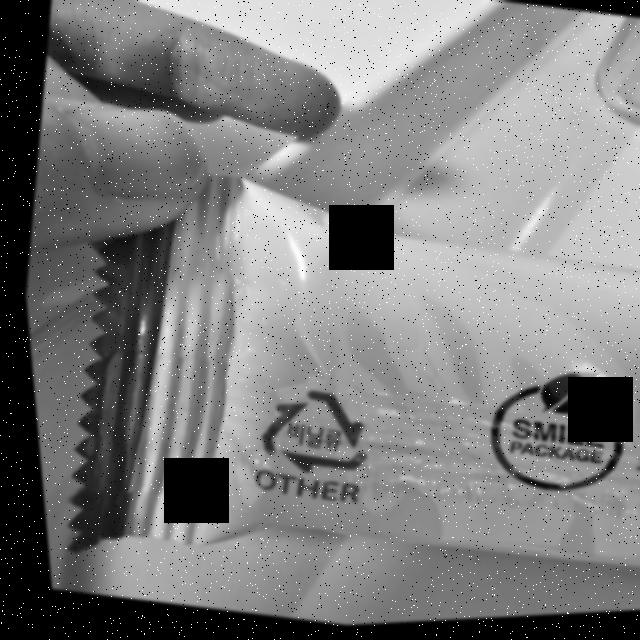Vinyl: (238, 377, 375, 489)
